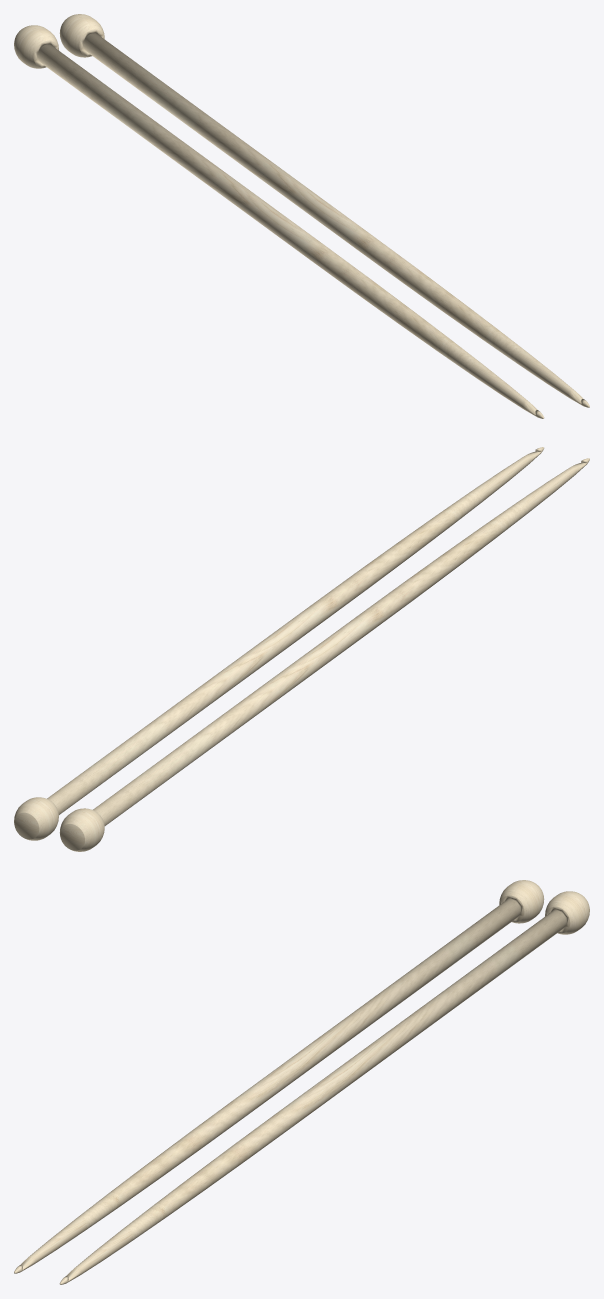
File: afghan.glb
3 renders of one model, top to bottom at view 1: azimuth 30°, elevation 25°; view 2: azimuth 150°, elevation 25°; view 3: azimuth 330°, elevation 25°, orthographic.
Parts seen in each view (by area): view 1: Cylinder, Cylinder.001, Cylinder.002, Cylinder.003; view 2: Cylinder, Cylinder.001, Cylinder.003, Cylinder.002; view 3: Cylinder.001, Cylinder, Cylinder.003, Cylinder.002.
Part boxes in pixels (x1,y1,x2,y2): Cylinder: (83, 33, 589, 407); Cylinder.001: (37, 44, 544, 418); Cylinder.002: (59, 14, 104, 57); Cylinder.003: (14, 25, 58, 68); Cylinder: (47, 447, 544, 814); Cylinder.001: (93, 458, 589, 825); Cylinder.003: (59, 808, 104, 851); Cylinder.002: (14, 797, 58, 840); Cylinder.001: (14, 899, 520, 1273); Cylinder: (59, 910, 566, 1284); Cylinder.003: (499, 880, 544, 923); Cylinder.002: (545, 891, 589, 934).
Bounding box in the file's own units: 0.0914 × 0.04 × 1.
Materials: 1 (1 with a texture image).
